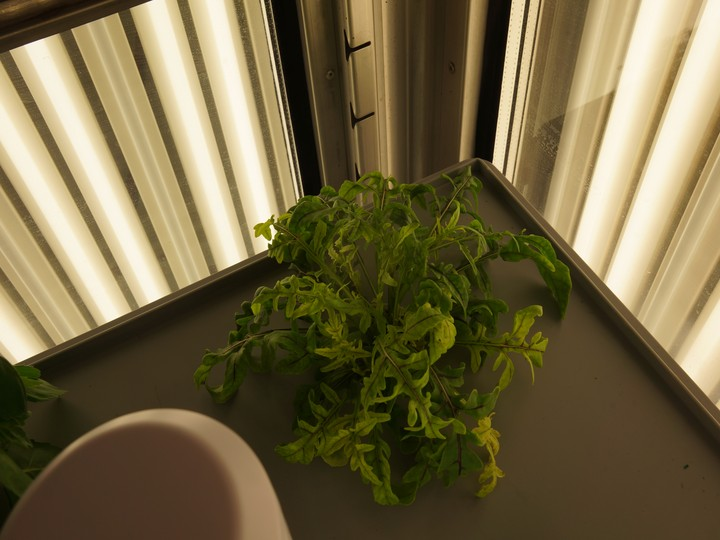roquette_sauvage_red_veined: (192, 163, 588, 507)
